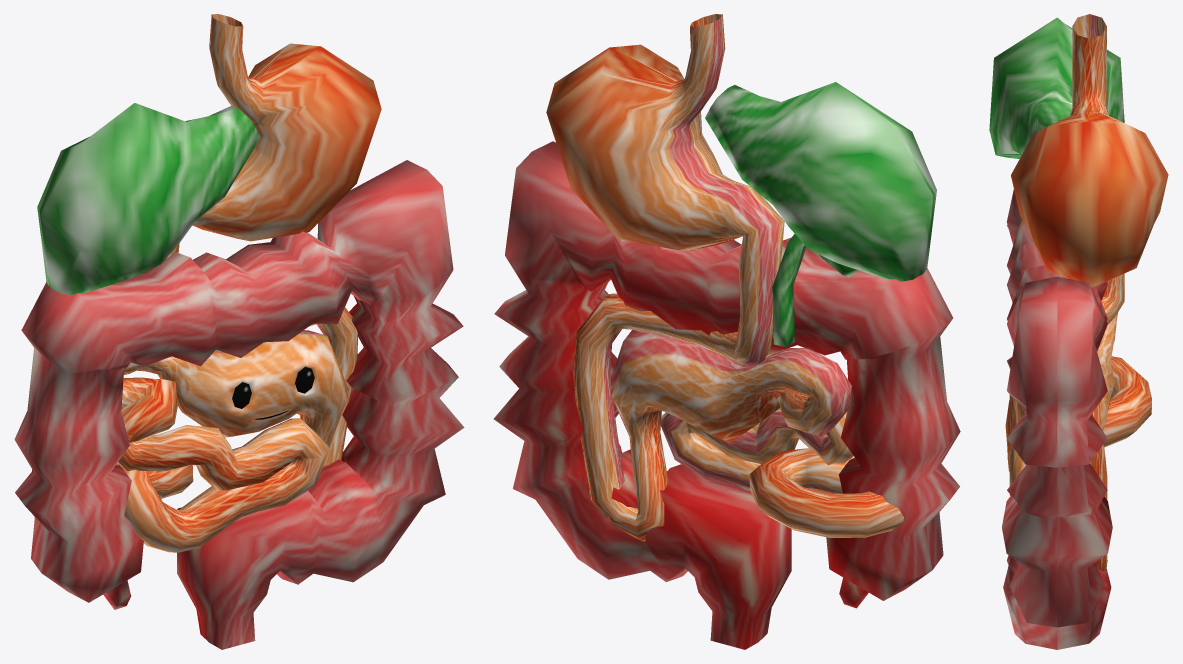
File: usus.glb
The picture shows the model from 3 angles, left to right: view 1: azimuth 30°, elevation 25°; view 2: azimuth 150°, elevation 25°; view 3: azimuth 270°, elevation 25°; orthographic projection. The views are drawn at different scales.
Parts seen in each view (by area): view 1: usus_besar, usus_kecil, pankreas; view 2: usus_besar, usus_kecil, pankreas; view 3: usus_besar, usus_kecil, pankreas.
Part boxes in pixels (x1=…): usus_besar: x1=14, y1=160, x2=464, y2=649; usus_kecil: x1=32, y1=14, x2=381, y2=552; pankreas: x1=37, y1=103, x2=260, y2=294; usus_besar: x1=493, y1=141, x2=960, y2=649; usus_kecil: x1=546, y1=14, x2=903, y2=541; pankreas: x1=705, y1=82, x2=936, y2=347; usus_besar: x1=1002, y1=189, x2=1112, y2=649; usus_kecil: x1=1005, y1=14, x2=1168, y2=571; pankreas: x1=989, y1=17, x2=1124, y2=158.
Bounding box in the file's own units: 3.19 × 4.33 × 1.14.
2 materials, 2 textured.
